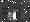person: (9, 10, 16, 22)
